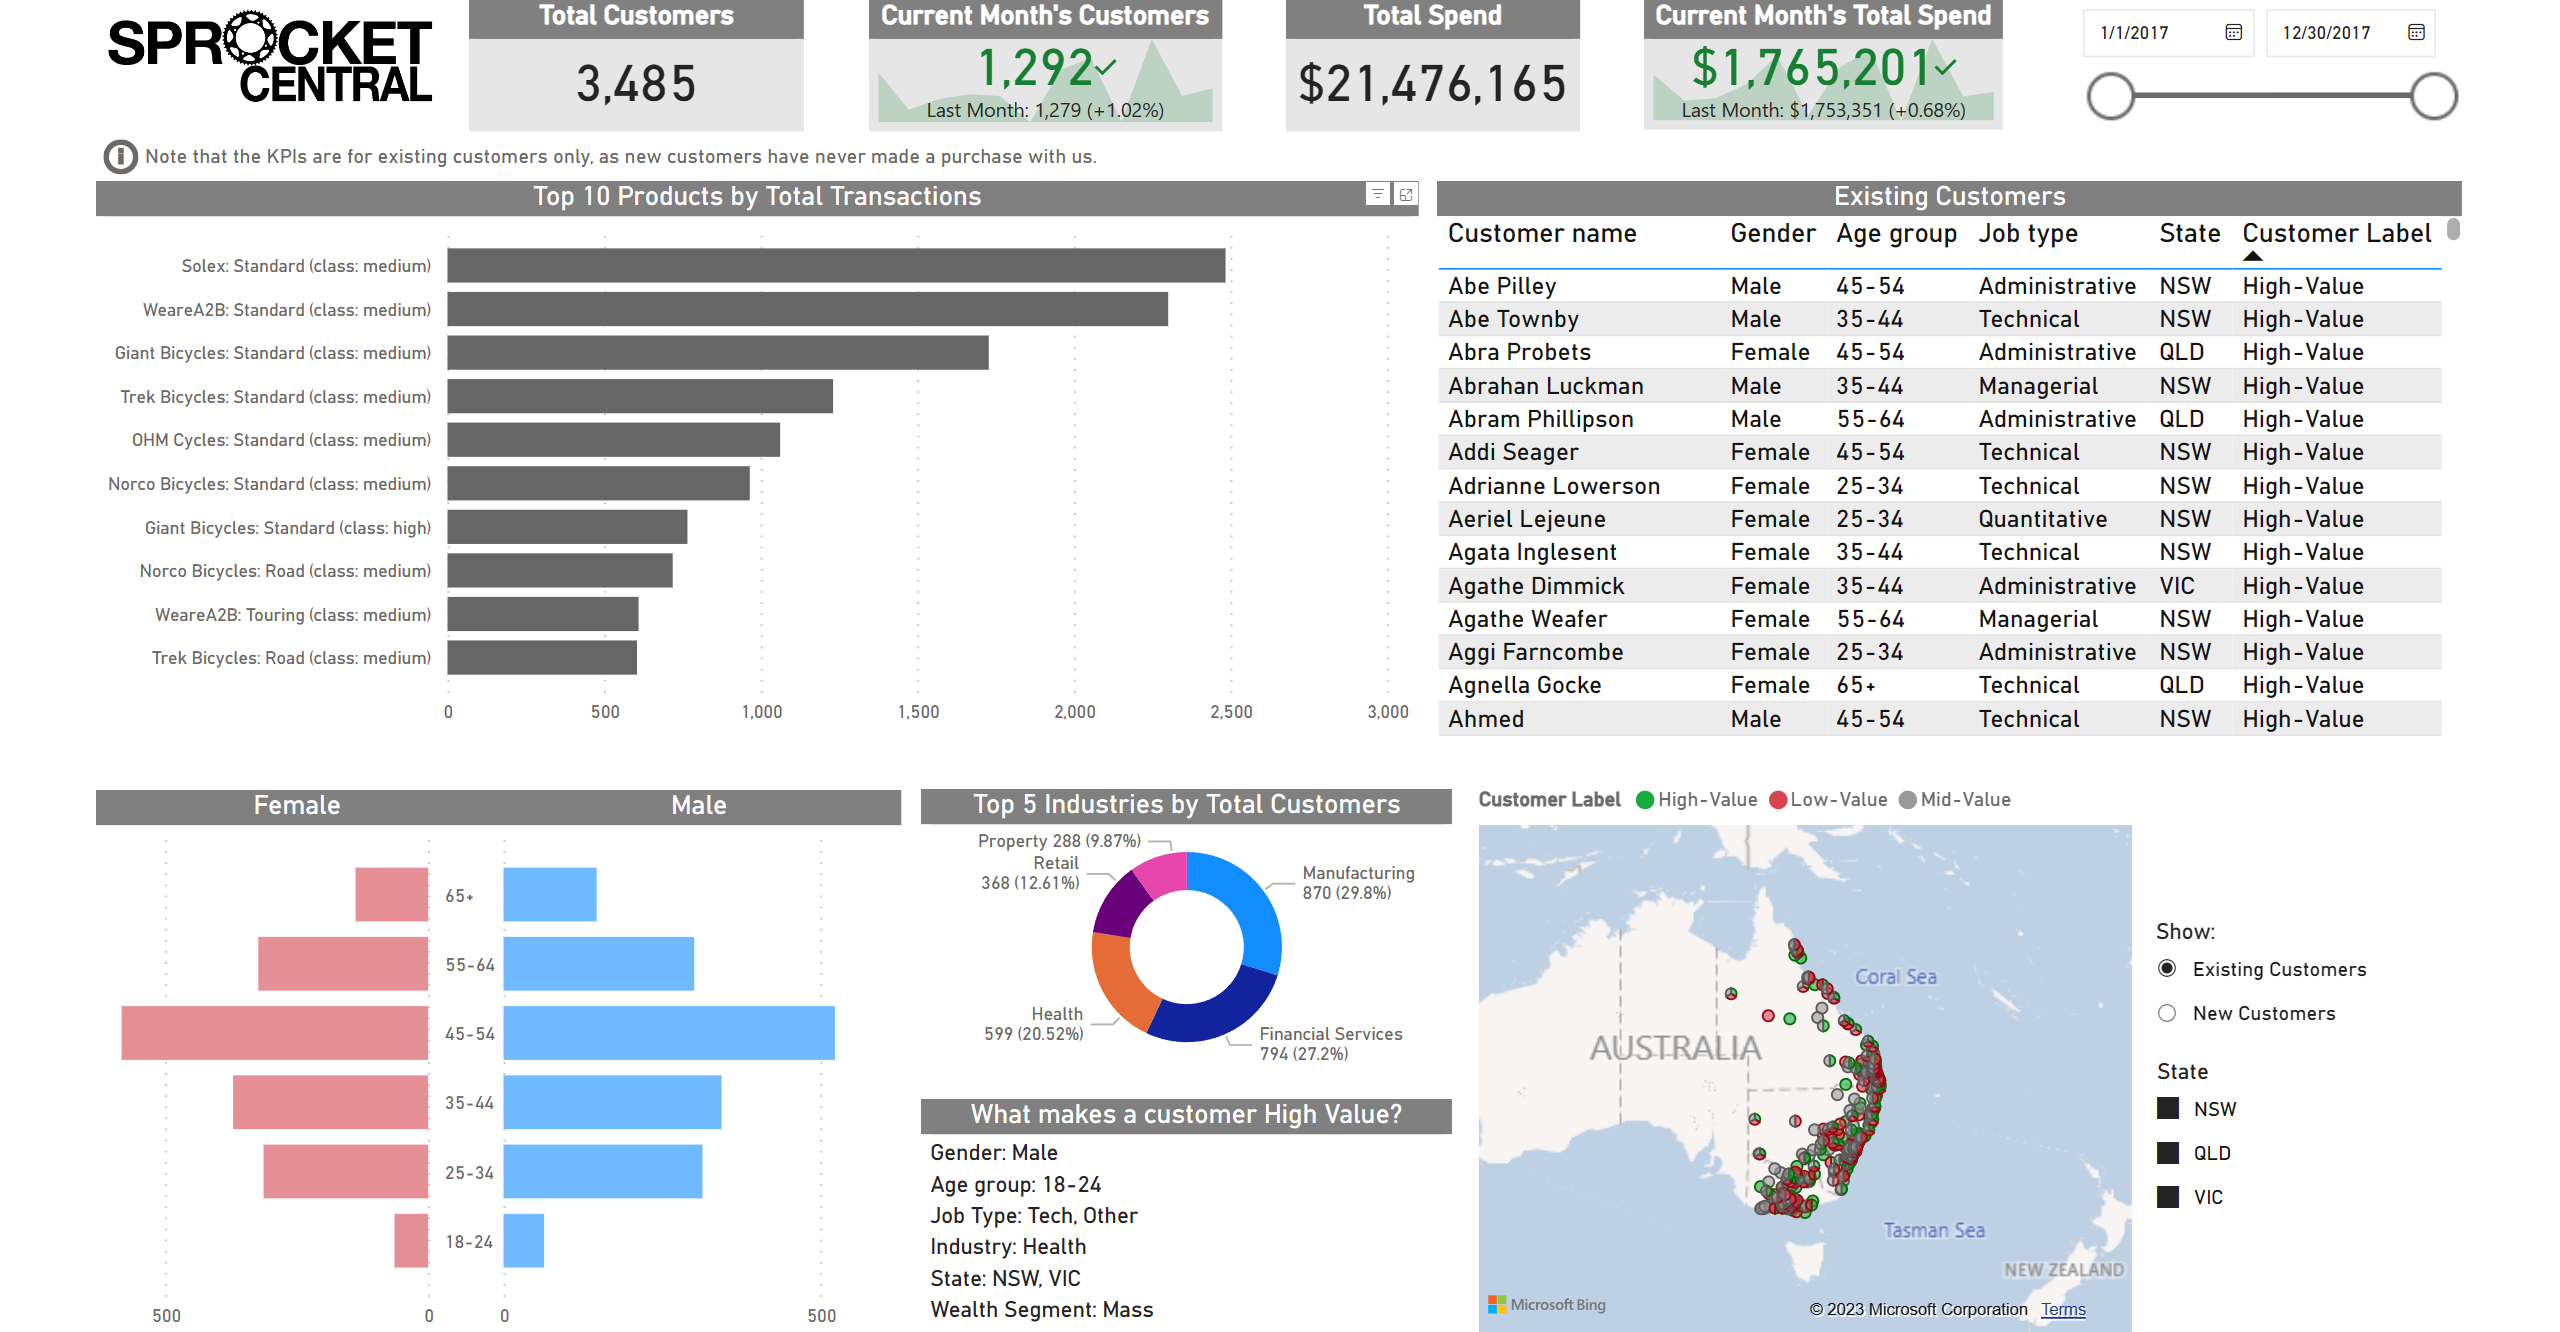

The dashboard page shown, as its layout file describes it:
{"tool":"powerbi","page":{"name":"Summary Dashboard","canvas":[1280,720],"ordinal":0},"visuals":[{"type":"map","fields":{"Series":["AllCustomers.customer_value_label"],"Y":["AllCustomers.lat"],"X":["AllCustomers.lon"]},"box":[747.7,417.6,353.3,302.4],"z":0},{"type":"image","box":[0,0,191.9,71.5],"z":1000},{"type":"card","title":"Total Spend","fields":{"Values":["Measures Table.Total Spend"]},"box":[643.2,0,158.8,71.1],"z":2000},{"type":"kpi","title":"Current Month''s Total Spend","fields":{"Goal":["Measures Table.Total Spend Last Month"],"Indicator":["Measures Table.Total Spend"],"TrendLine":["Dates.Date Hierarchy.StartOfMonth"]},"box":[836.8,0,194.3,70.3],"z":3000},{"type":"kpi","title":"Current Month''s Customers","fields":{"Indicator":["Measures Table.Total Customers"],"Goal":["Measures Table.Customers Last Month"],"TrendLine":["Dates.Date Hierarchy.StartOfMonth"]},"box":[417.7,0,190.7,71.1],"z":4000},{"type":"clusteredBarChart","title":"Top 10 Products by Total Transactions","fields":{"Category":["Transactions.product"],"Y":["Measures Table.Total Transactions"]},"box":[0,97.9,714.9,300.6],"z":5000},{"type":"tableEx","fields":{"Values":["AllCustomers.customer_name","AllCustomers.gender","AllCustomers.age_group","AllCustomers.job_type","AllCustomers.state","AllCustomers.customer_value_label"]},"box":[724.6,97.9,554.5,301.5],"z":6000},{"type":"card","title":"Total Customers","fields":{"Values":["Measures Table.Total Customers"]},"box":[201.6,0,181.3,71.1],"z":7000},{"type":"slicer","fields":{"Values":["AllCustomers.state"]},"box":[1100.9,567,179.1,102.2],"z":8000},{"type":"donutChart","title":"Top 5 Industries by Total Customers","fields":{"Category":["AllCustomers.job_industry_category"],"Y":["Measures Table.Total Customers (All)"]},"box":[446.1,426.7,287.4,156.9],"z":9000},{"type":"clusteredBarChart","title":"Female","fields":{"Category":["AllCustomers.age_group"],"Y":["Measures Table.Total Customers (All)"]},"box":[0,426.9,217.5,293],"z":10000},{"type":"clusteredBarChart","title":"Male","fields":{"Y":["Measures Table.Total Customers (All)"],"Category":["AllCustomers.age_group"]},"box":[217.5,426.9,217.5,293],"z":11000},{"type":"slicer","fields":{"Values":["AllCustomers.existing_or_new"]},"box":[1100.6,491.2,179.4,77.6],"z":12000},{"type":"textbox","title":"What makes a customer High Value?","box":[446.1,594.3,287.4,125.7],"z":13000},{"type":"actionButton","box":[0,71.1,567.3,26.9],"z":14000},{"type":"slicer","fields":{"Values":["Dates.Date"]},"box":[1065.7,0,214.3,68.9],"z":15000}]}

Visuals, with their boxes on the page's 1280x720 design canvas (x1, y1, x2, y2). These are canvas units, not pixel positions in the 2560x1332 screenshot, which may show the page scaled, cropped or inside an application window:
map - AllCustomers.customer_value_label x AllCustomers.lat: 748 418 1101 720
image: 0 0 192 72
"Total Spend" card: 643 0 802 71
"Current Month''s Total Spend" kpi: 837 0 1031 70
"Current Month''s Customers" kpi: 418 0 608 71
"Top 10 Products by Total Transactions" clusteredBarChart: 0 98 715 398
tableEx - AllCustomers.customer_name x AllCustomers.gender: 725 98 1279 399
"Total Customers" card: 202 0 383 71
slicer - AllCustomers.state: 1101 567 1280 669
"Top 5 Industries by Total Customers" donutChart: 446 427 734 584
"Female" clusteredBarChart: 0 427 218 720
"Male" clusteredBarChart: 218 427 435 720
slicer - AllCustomers.existing_or_new: 1101 491 1280 569
"What makes a customer High Value?" textbox: 446 594 734 720
actionButton: 0 71 567 98
slicer - Dates.Date: 1066 0 1280 69
